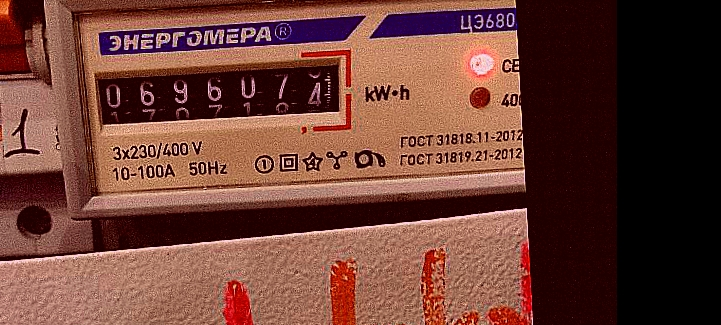0: (101, 80, 124, 109), (238, 69, 257, 99), (137, 78, 156, 105)
4: (304, 79, 323, 108)
6: (203, 71, 222, 102)
7: (271, 69, 290, 99)
9: (170, 75, 190, 104)
screen: (79, 44, 357, 143)
